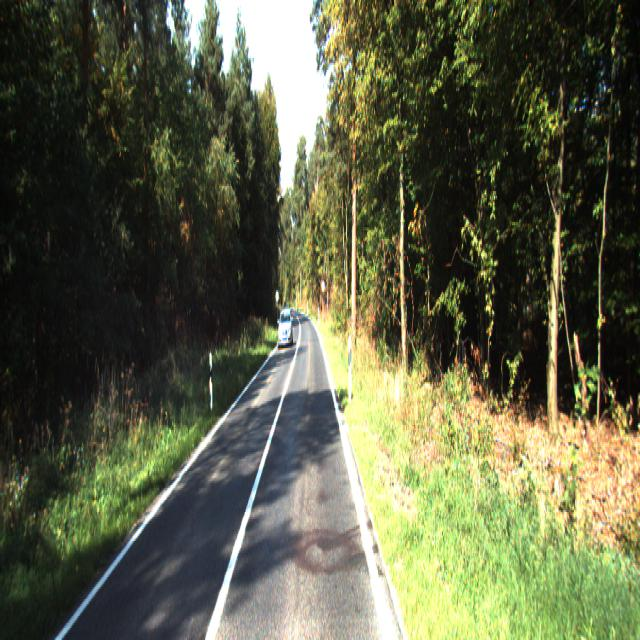Car: (277, 309, 293, 350)
